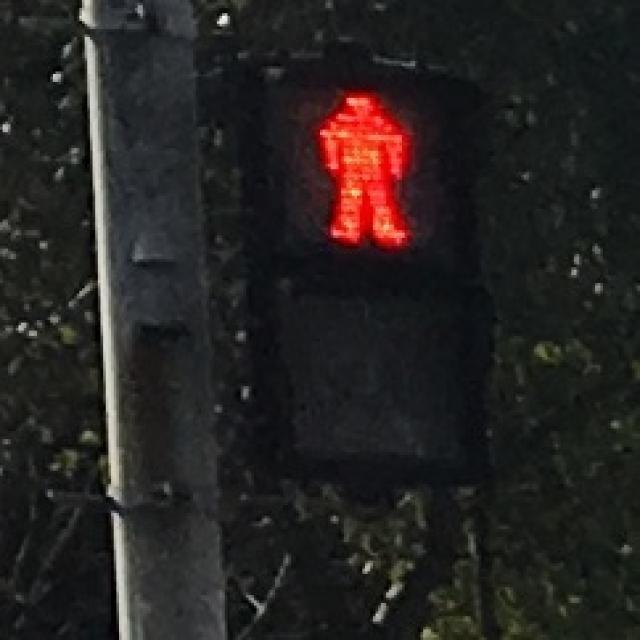red-crossing: (280, 71, 455, 256)
